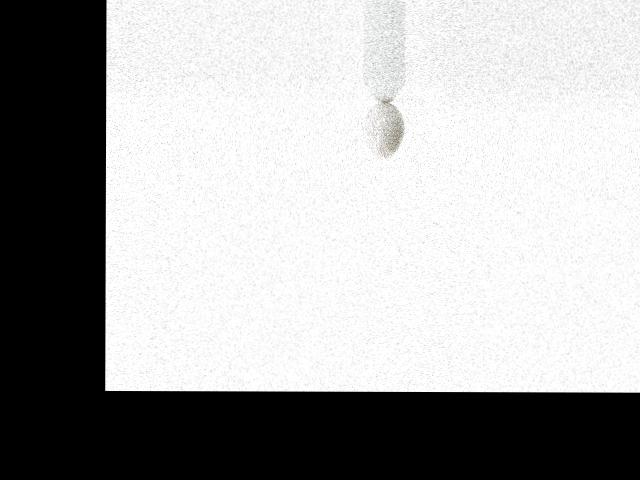egg: (363, 101, 404, 159)
